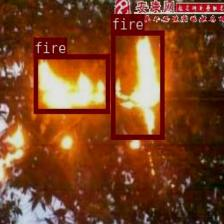fire: (110, 30, 163, 139), (33, 54, 109, 112)
